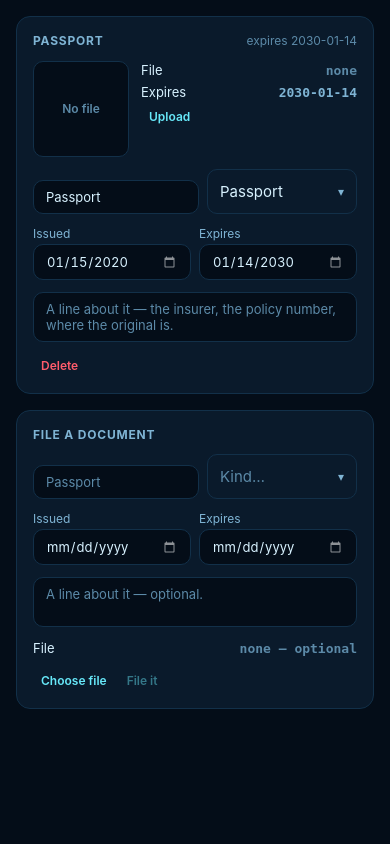
Test: filing a new one › clears the form when the record was saved but its file was not, and says so on the new card
This screenshot has width=390, height=844.
Type "  Car policy " into the field with test id "document-new-title" at (116, 482), box [33, 465, 199, 499]
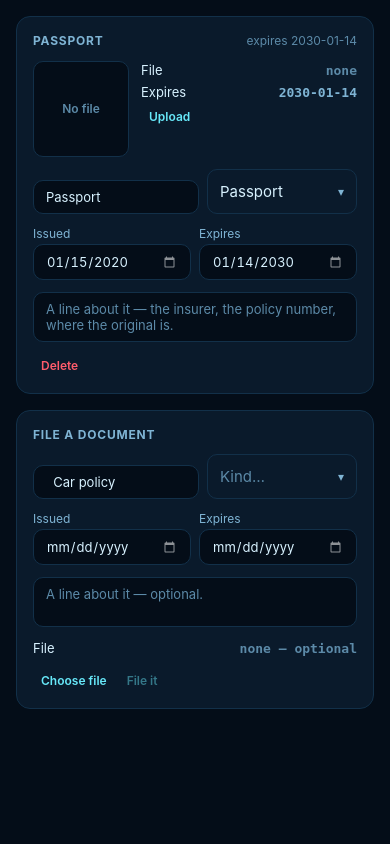
Click the button with test id "document-new-kind" at (282, 476), box [207, 454, 357, 499]
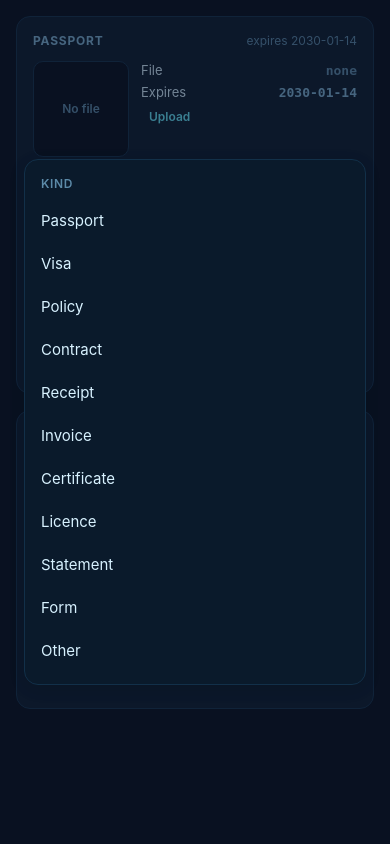
Click the button "Policy" at (62, 306), box [25, 285, 365, 328]
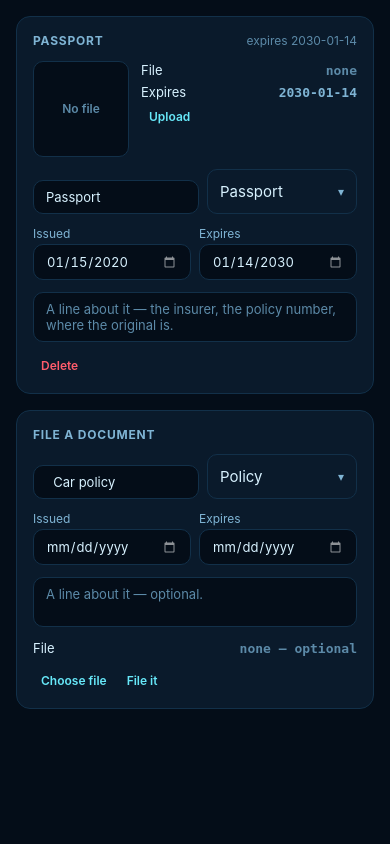
Click the button with test id "document-new-choose" at (74, 680), box [33, 669, 115, 692]
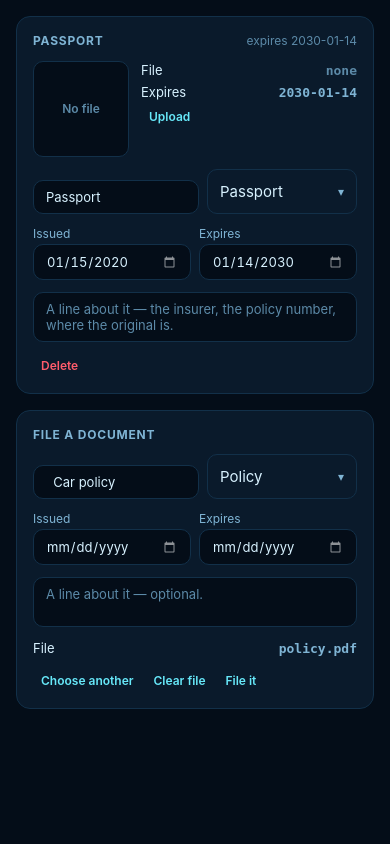
Click the button with test id "document-new-submit" at (241, 680), box [218, 669, 264, 692]
(page scrolled)
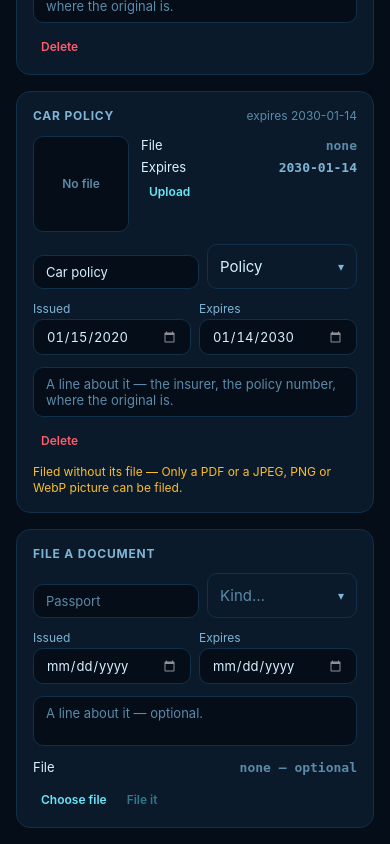
Now the text "Filed without its file — Only a PDF or a JPEG, PNG or WebP picture can be filed." is shown, box [33, 464, 357, 496]
Now the field with test id "document-new-title" is empty, box [33, 584, 199, 618]
